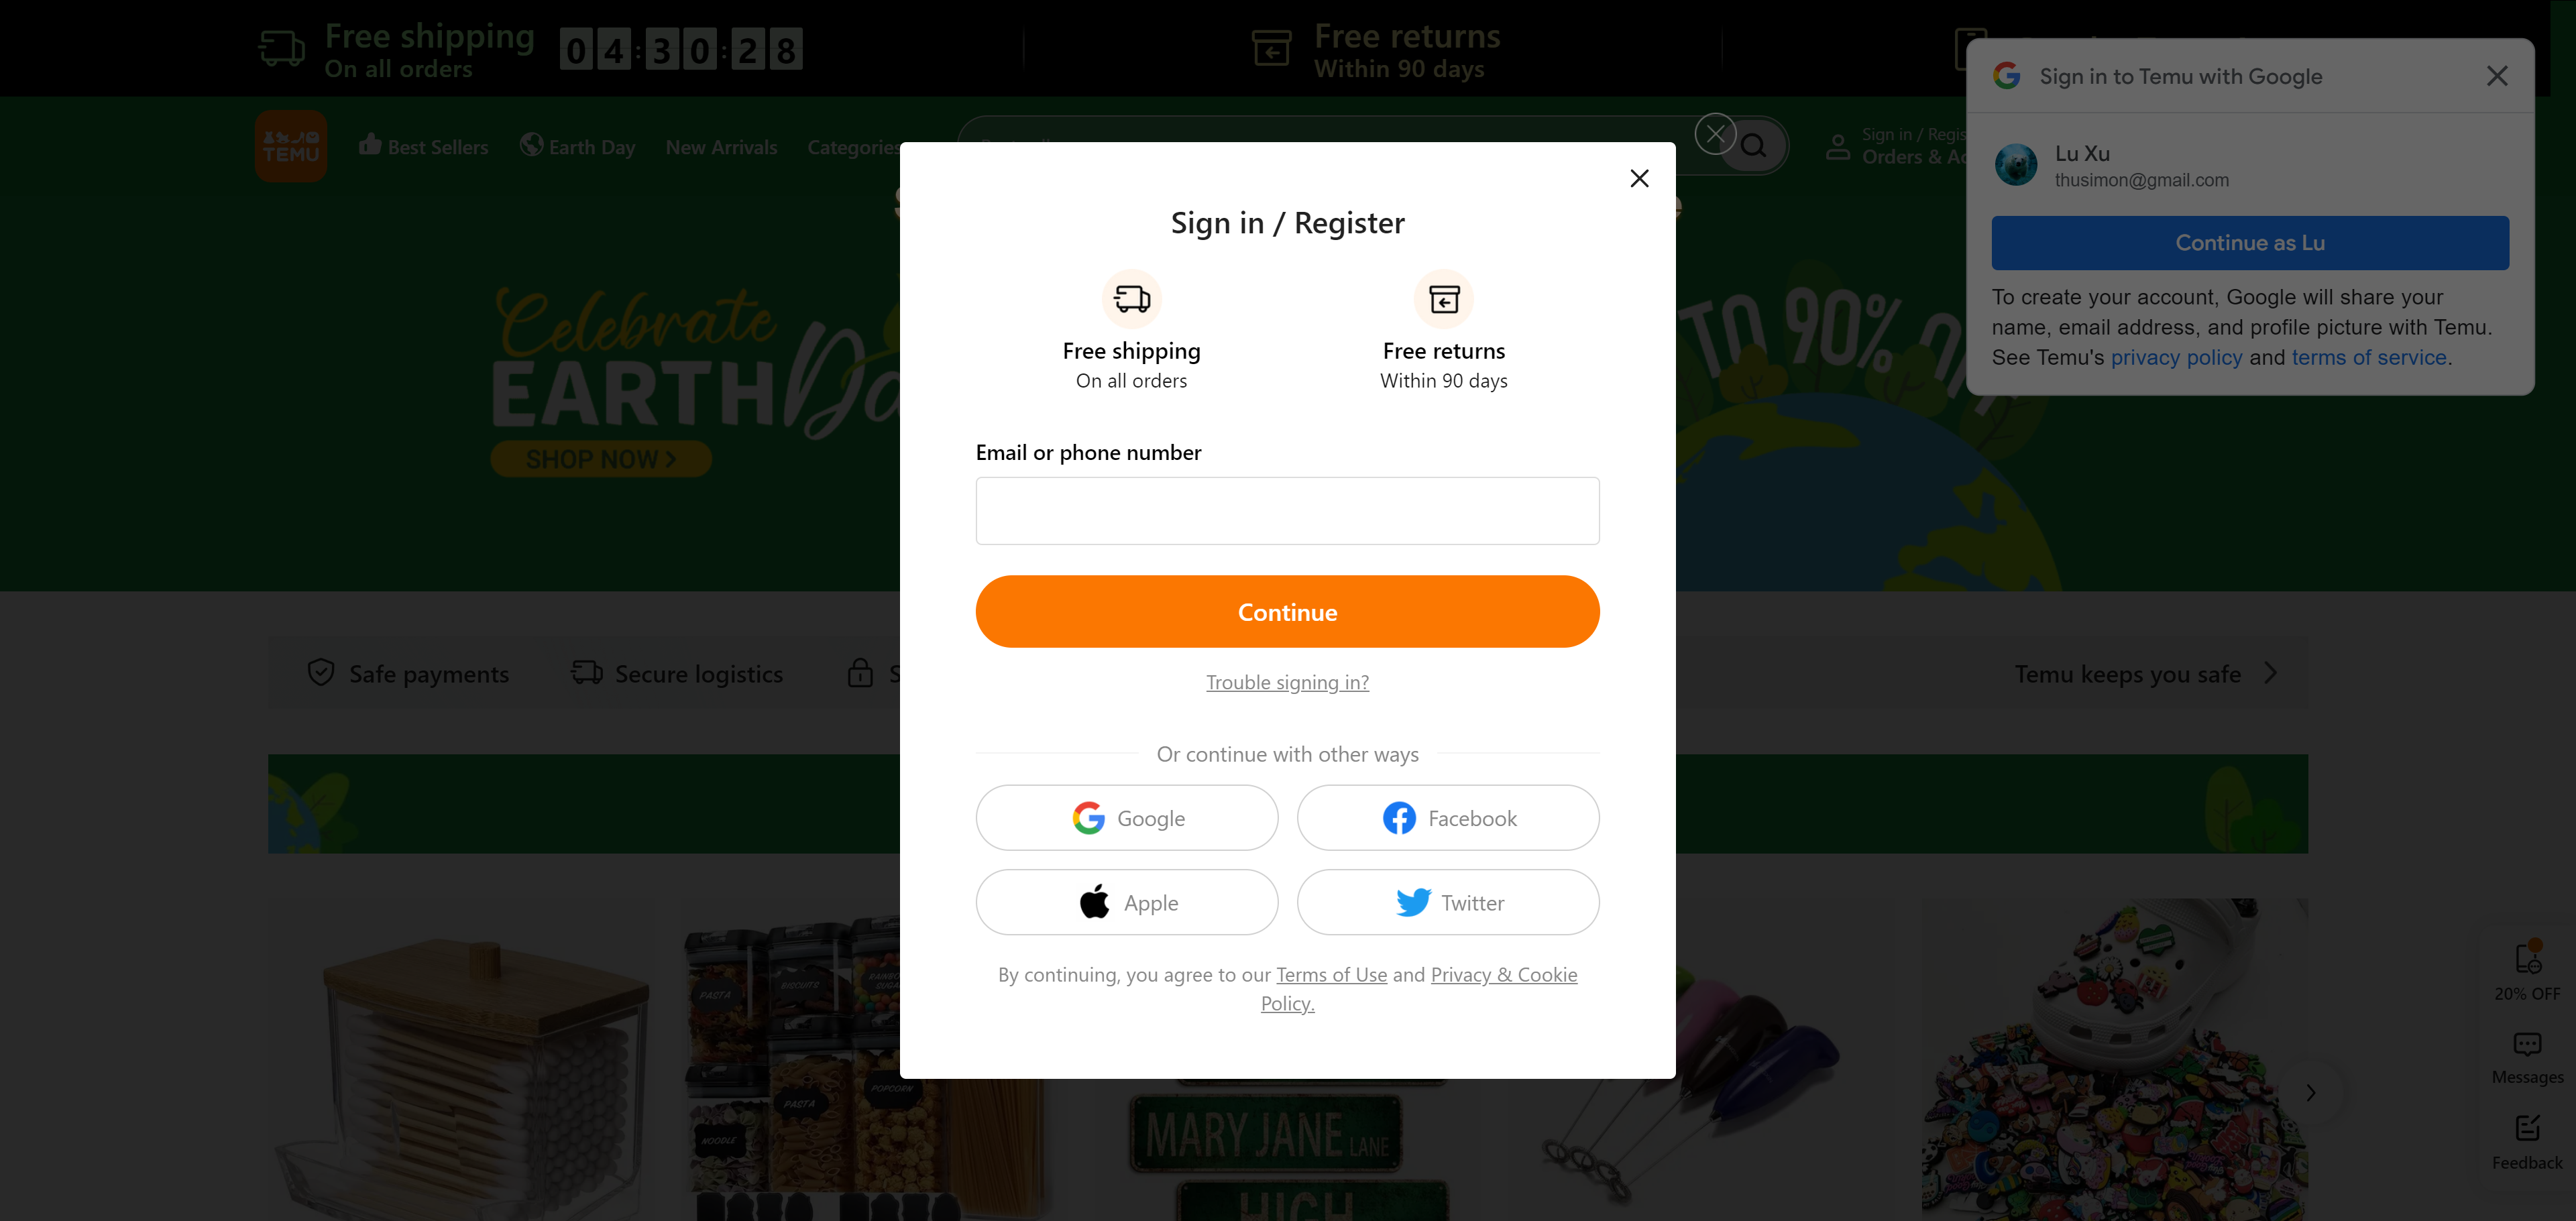login_button: (976, 575, 1600, 647)
login_form: (969, 435, 1607, 656)
